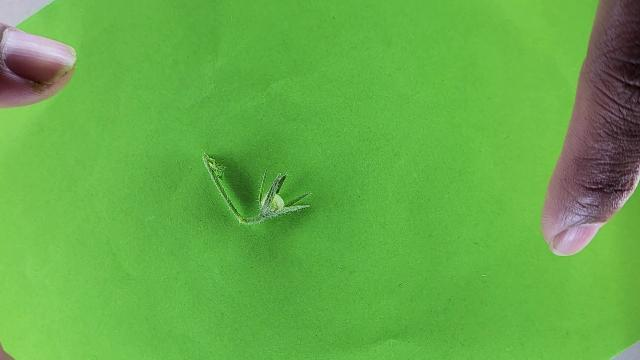Fruit Bud: (257, 171, 312, 223)
